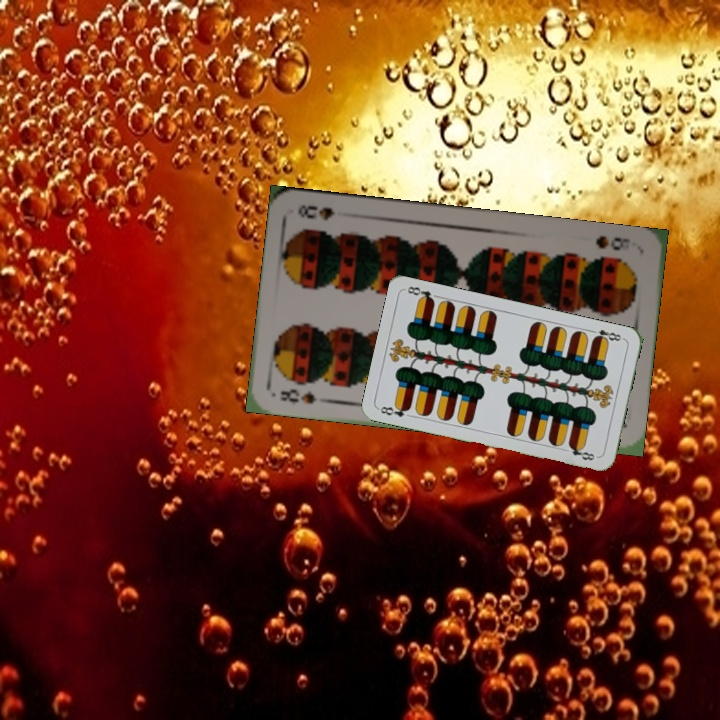E8: (586, 325, 626, 345), (375, 401, 413, 420)
S8: (276, 384, 319, 407), (591, 231, 633, 253)
